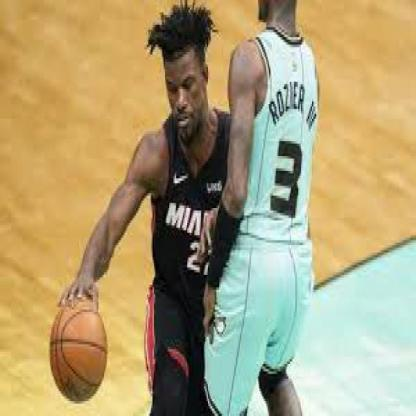basketball: (50, 300, 108, 404)
